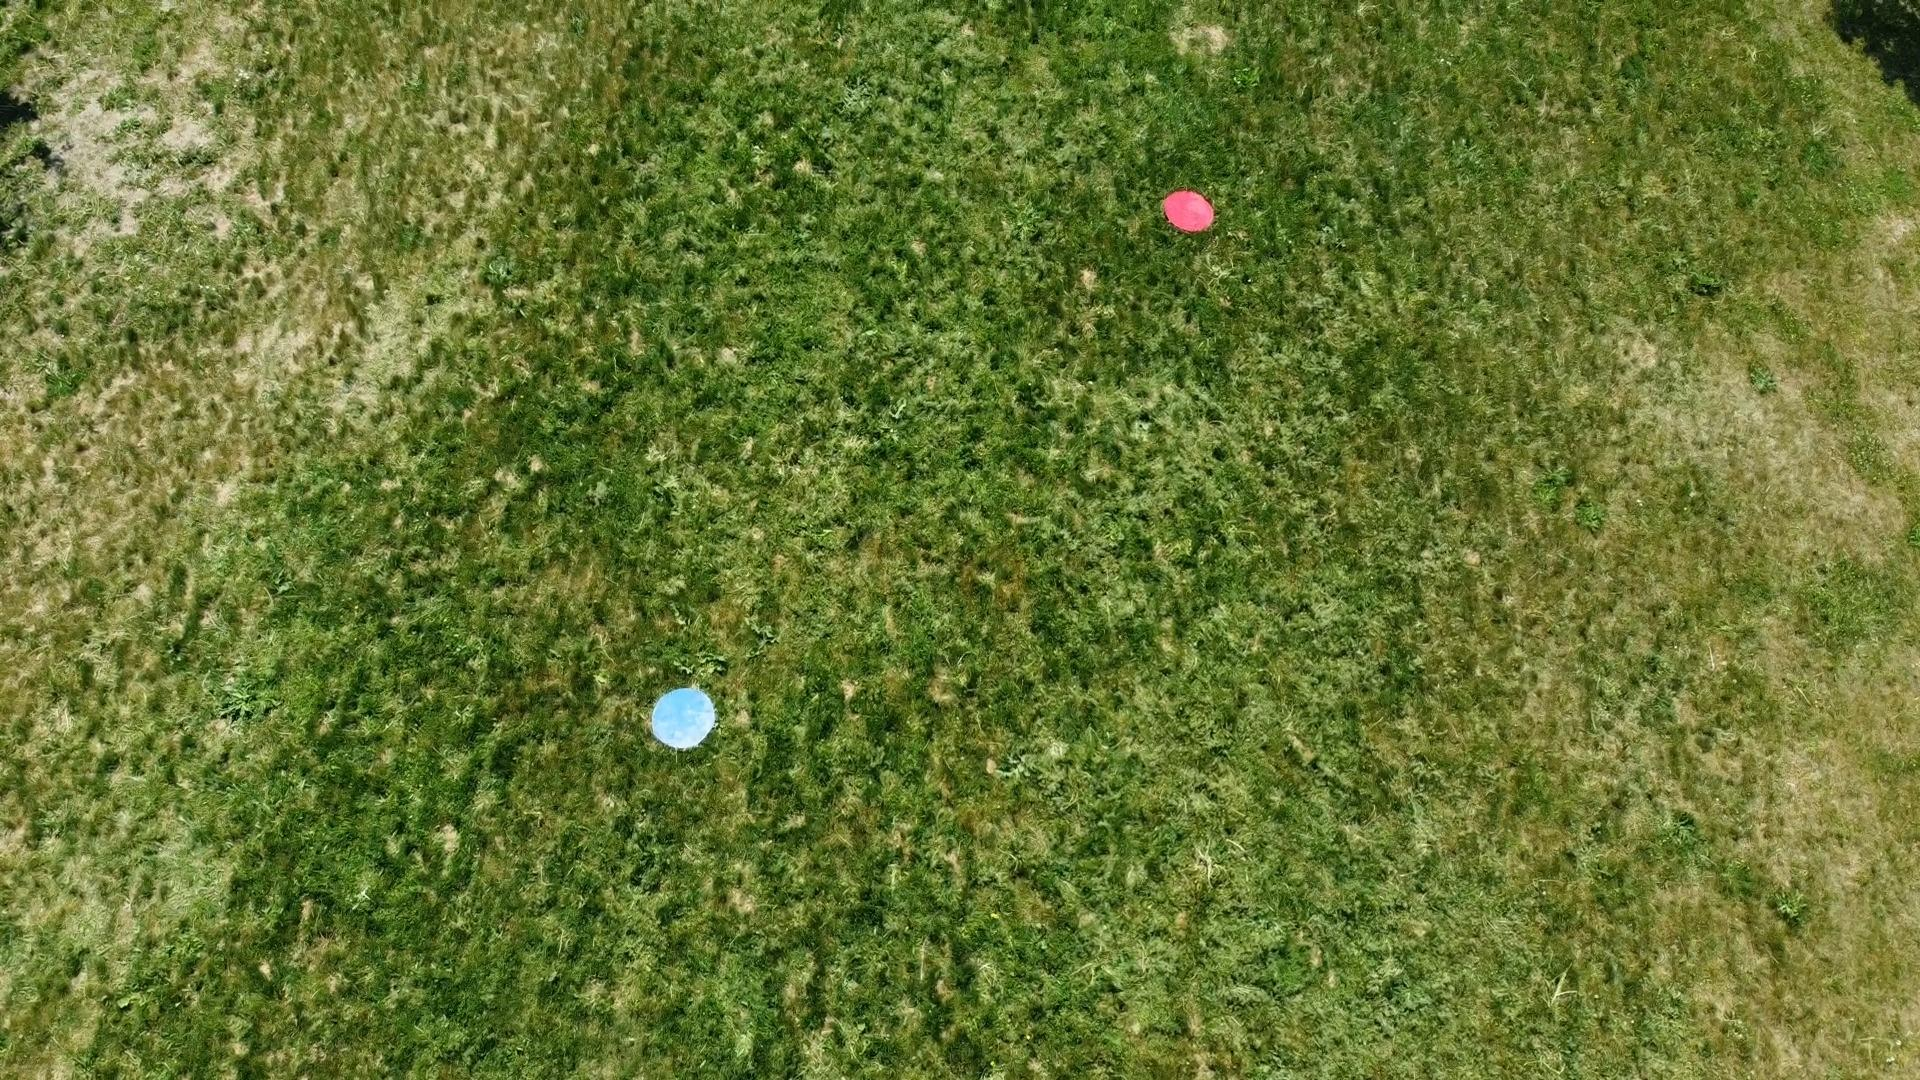Blue: (647, 684, 721, 754)
Red: (1160, 185, 1218, 237)
